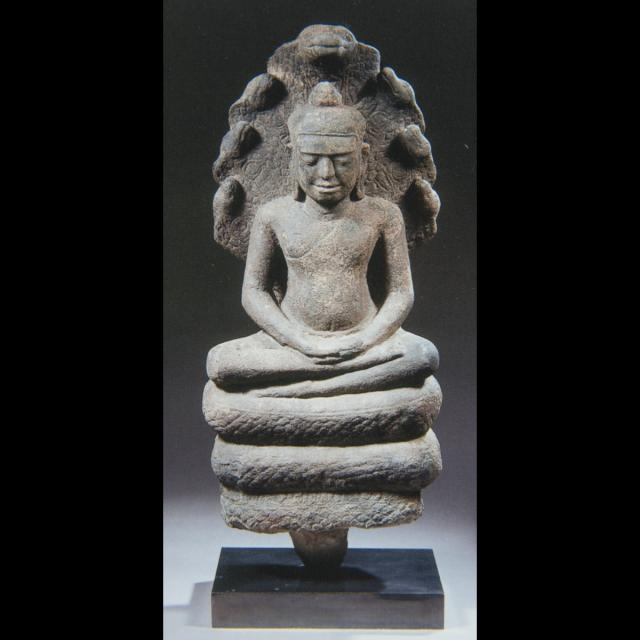buddha-sitting: (202, 25, 446, 527)
